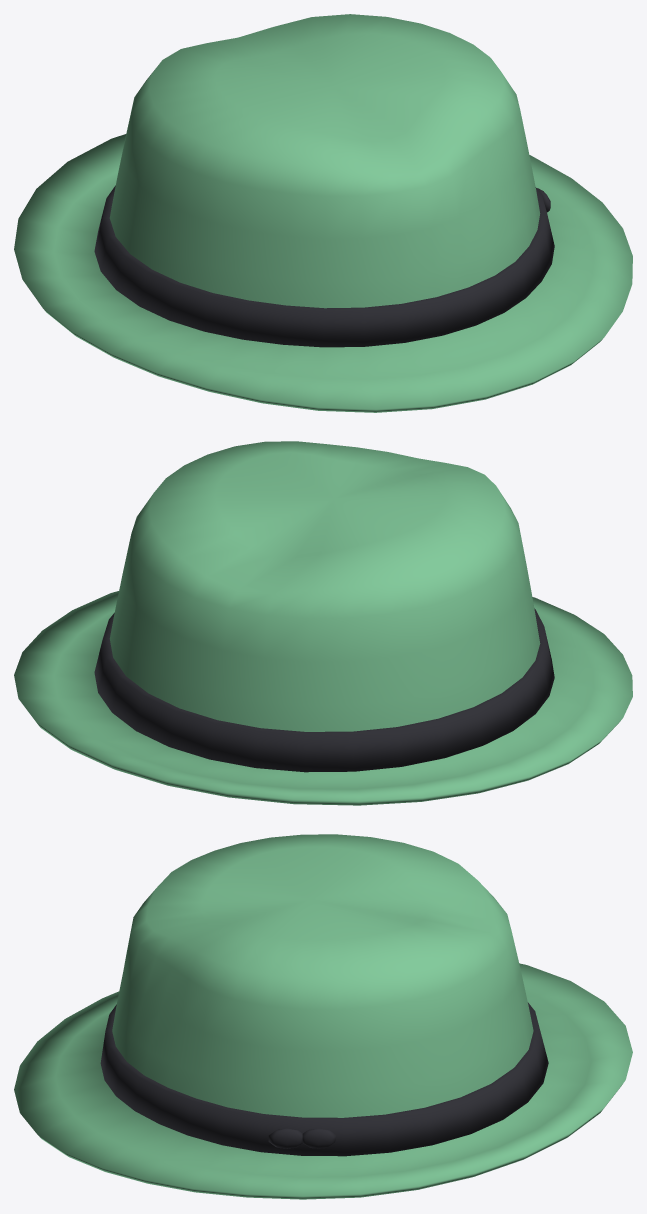
The model's file is gorro_fedora.glb.
The picture shows the model from 3 angles, top to bottom: view 1: azimuth 30°, elevation 25°; view 2: azimuth 150°, elevation 25°; view 3: azimuth 270°, elevation 25°; orthographic projection. The views are drawn at different scales.
Visible parts, largest first — view 1: pieza; view 2: pieza; view 3: pieza.
Boxes of the visible parts, x1,y1,x2,y2 form: pieza: (14, 14, 632, 412); pieza: (14, 441, 632, 805); pieza: (14, 834, 632, 1199).
Size of the model in its own units: 1.43 by 0.5389 by 1.5.
